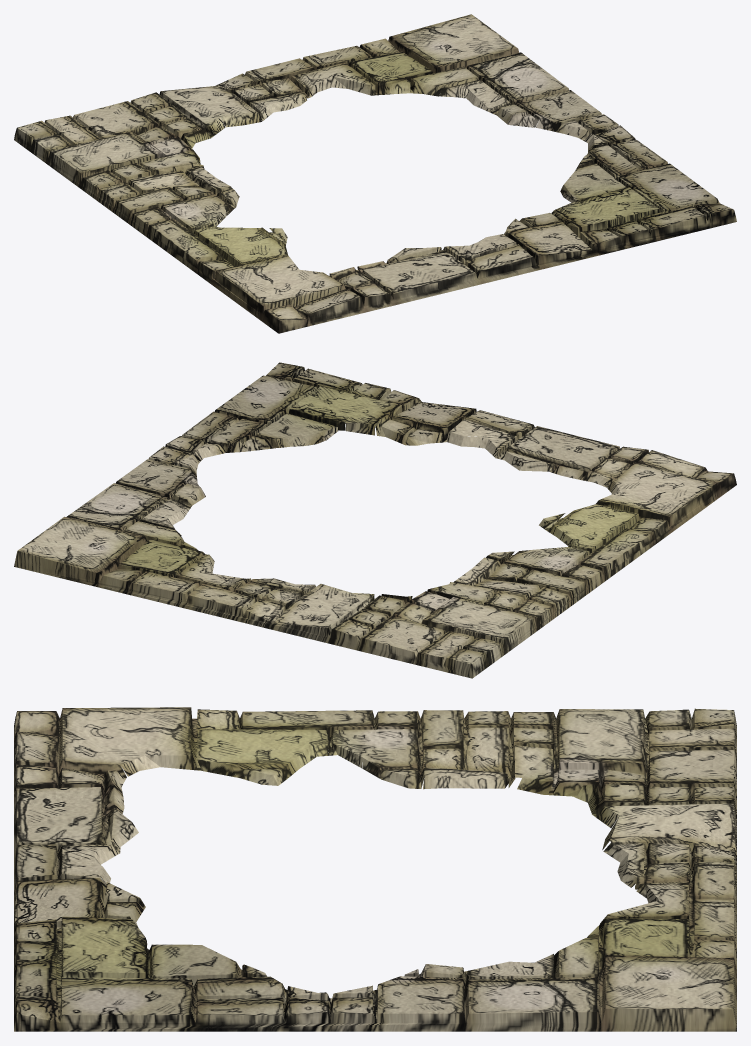
File: stone_floor_hole.glb
3 renders of one model, top to bottom at view 1: azimuth 30°, elevation 25°; view 2: azimuth 150°, elevation 25°; view 3: azimuth 270°, elevation 25°, orthographic. The views are drawn at different scales.
Parts seen in each view (by area): view 1: Stone_Floor_Hole; view 2: Stone_Floor_Hole; view 3: Stone_Floor_Hole.
Part boxes in pixels (x1,y1,x2,y2): Stone_Floor_Hole: [14, 14, 736, 333]; Stone_Floor_Hole: [14, 362, 736, 678]; Stone_Floor_Hole: [14, 707, 736, 1031].
Bounding box in the file's own units: 2 × 0.0681 × 2.
1 material, 1 textured.
